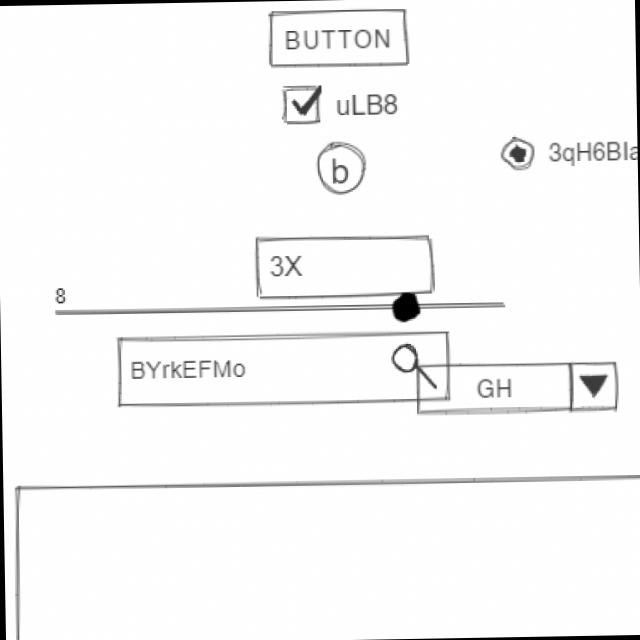button: (266, 6, 414, 73)
checkbox: (279, 79, 400, 129)
container: (13, 469, 640, 640)
icon-button: (316, 140, 371, 197)
input: (252, 231, 438, 301)
radio: (498, 132, 639, 173)
search: (115, 329, 456, 410)
select: (413, 358, 622, 420)
slider: (76, 290, 511, 331)
